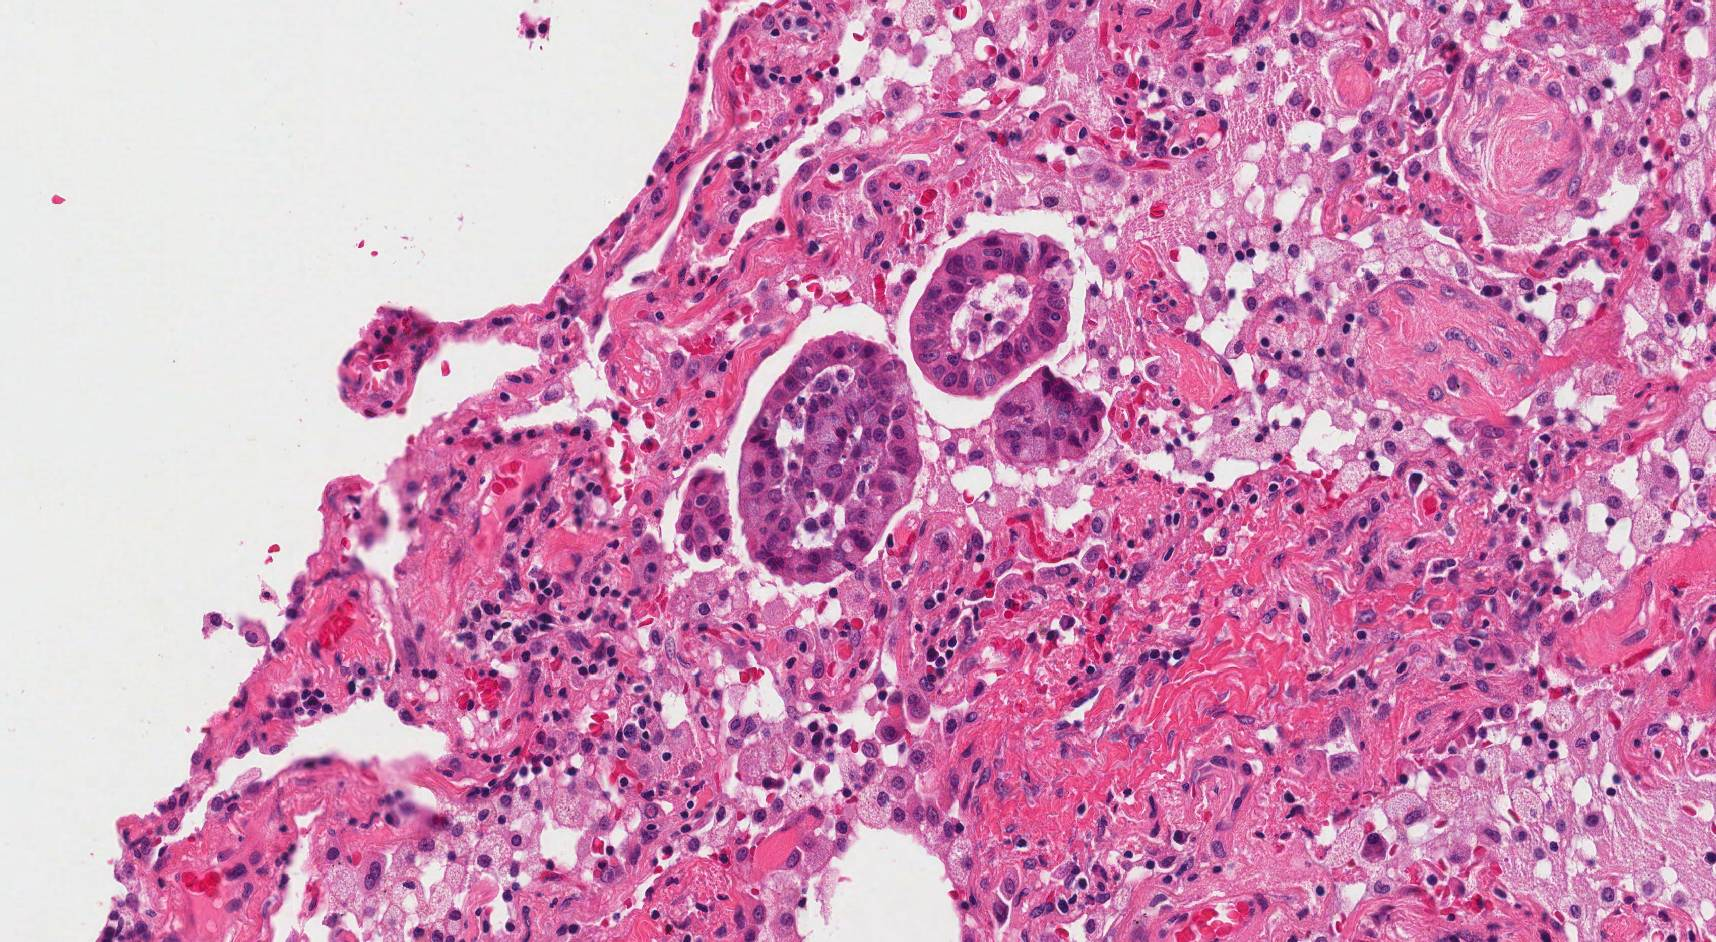stas: (740, 335, 923, 581), (909, 229, 1075, 401), (995, 365, 1108, 466), (673, 468, 736, 565)
